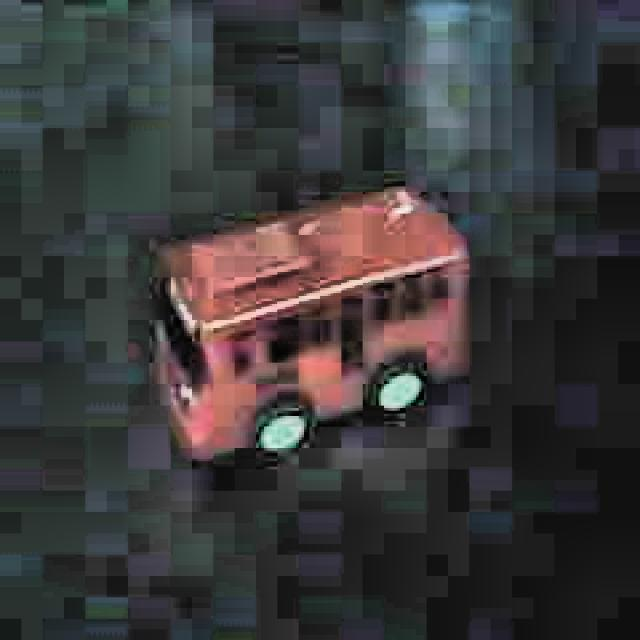bus: (145, 176, 478, 469)
